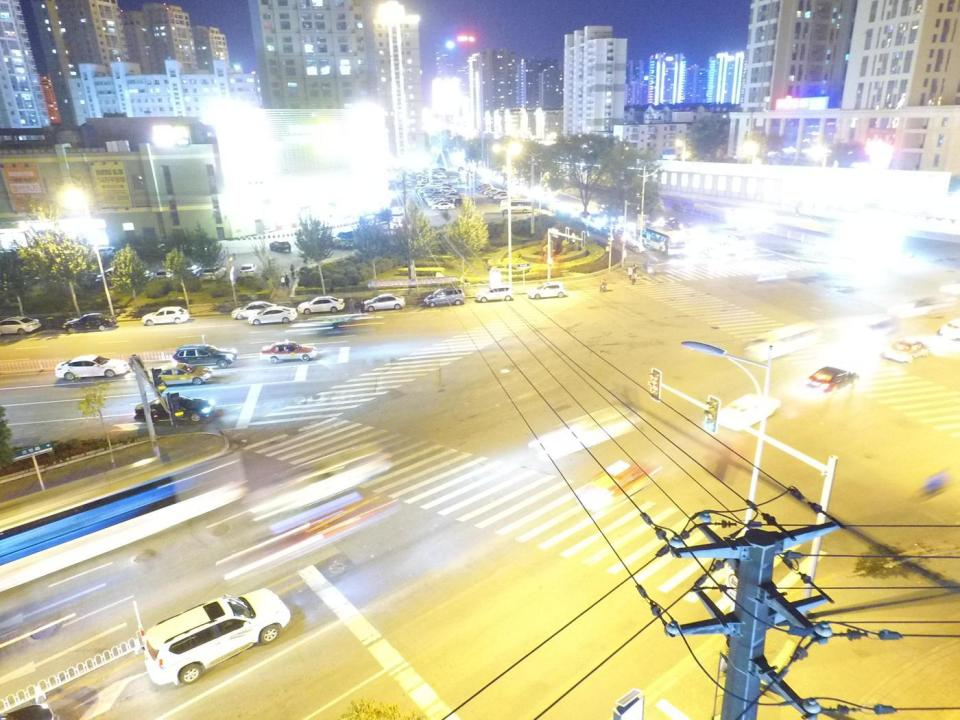bus: (748, 322, 820, 360), (636, 225, 686, 255), (500, 199, 532, 213)
car: (268, 492, 396, 558), (578, 459, 662, 514), (716, 393, 780, 432), (134, 396, 214, 422), (55, 354, 129, 380), (805, 366, 859, 395), (171, 344, 236, 368), (146, 362, 213, 385), (260, 340, 316, 362), (885, 337, 931, 363), (62, 313, 118, 333), (141, 306, 189, 326), (248, 306, 298, 325), (231, 301, 277, 320), (298, 296, 345, 314), (362, 293, 406, 312), (937, 319, 960, 353), (0, 316, 40, 335), (527, 282, 566, 299), (202, 267, 227, 280), (181, 265, 202, 280), (269, 240, 291, 253), (240, 264, 257, 277), (431, 202, 455, 210), (454, 197, 472, 206), (492, 193, 510, 201), (484, 188, 503, 195), (490, 191, 508, 198), (390, 207, 403, 216), (416, 172, 430, 178), (433, 173, 447, 179)
van: (144, 587, 291, 684), (424, 287, 464, 307), (476, 286, 513, 302), (155, 270, 175, 283), (337, 231, 353, 241), (433, 179, 443, 185)
